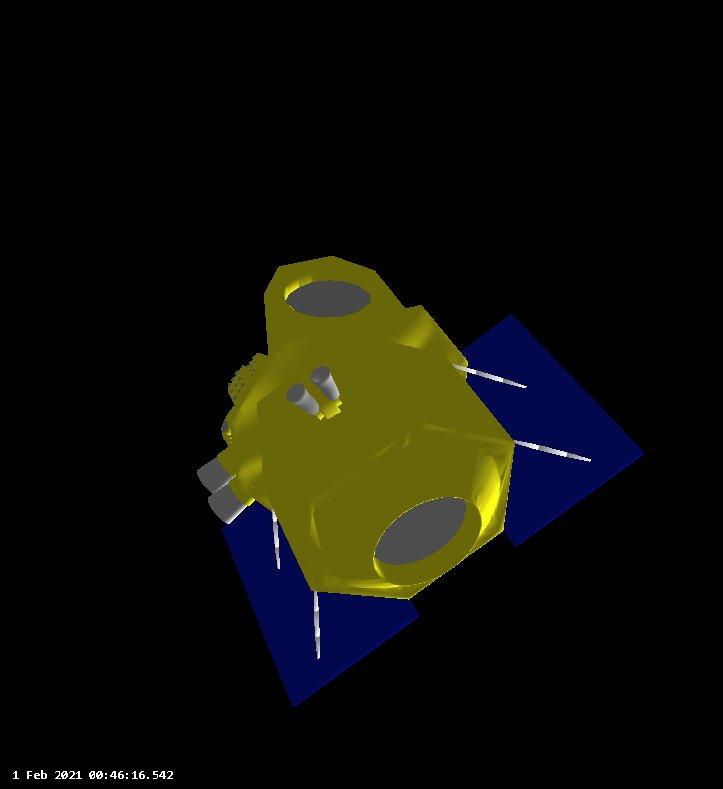body: (217, 256, 516, 601)
solar: (457, 311, 645, 551), (221, 498, 424, 709)
thruster: (208, 480, 250, 526), (194, 455, 238, 494), (309, 364, 341, 406), (286, 382, 322, 417)
